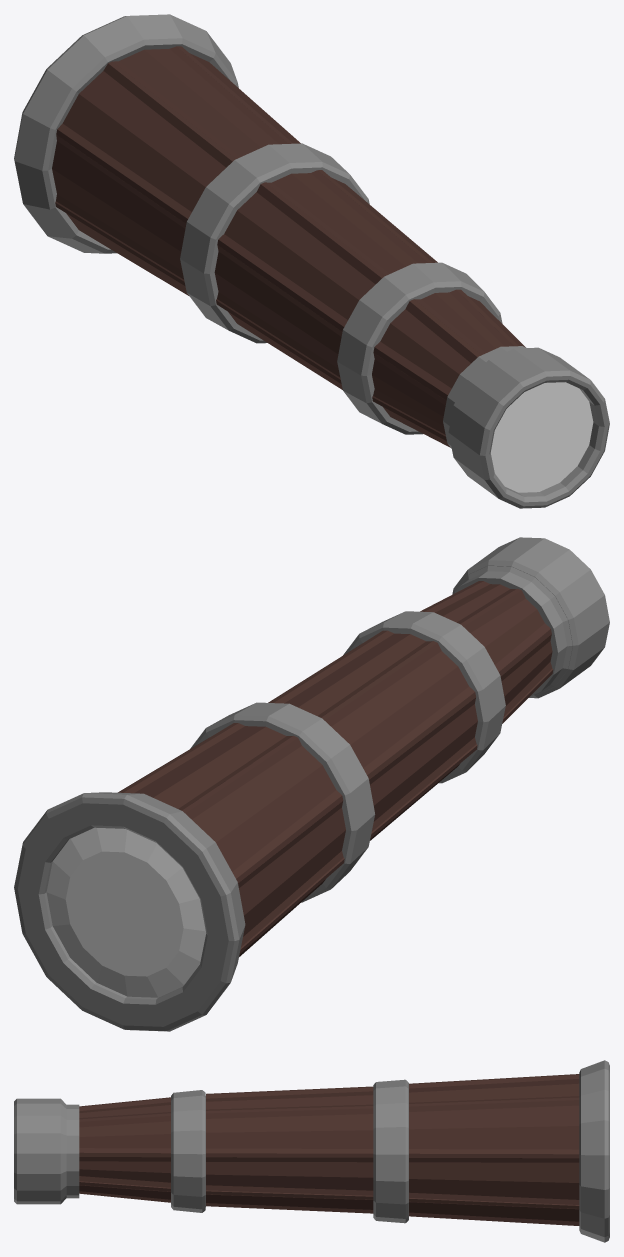
Rendered from luneta.fbx.
3 renders of one model, top to bottom at view 1: azimuth 30°, elevation 25°; view 2: azimuth 150°, elevation 25°; view 3: azimuth 270°, elevation 25°, orthographic. The views are drawn at different scales.
Visible parts, largest first — view 1: Cylinder.008; view 2: Cylinder.008; view 3: Cylinder.008.
Boxes of the visible parts, x1=… form: Cylinder.008: x1=14, y1=14, x2=609, y2=508; Cylinder.008: x1=14, y1=537, x2=609, y2=1031; Cylinder.008: x1=14, y1=1060, x2=609, y2=1242.
Size of the model in its own units: 13.39 by 13.39 by 43.69.
